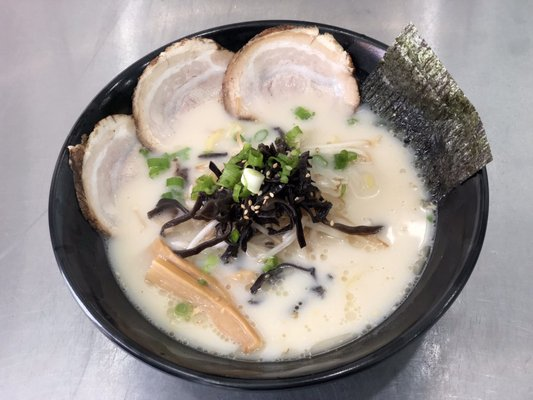curry: (359, 23, 493, 205)
sushi: (34, 21, 490, 390), (36, 134, 488, 394)
